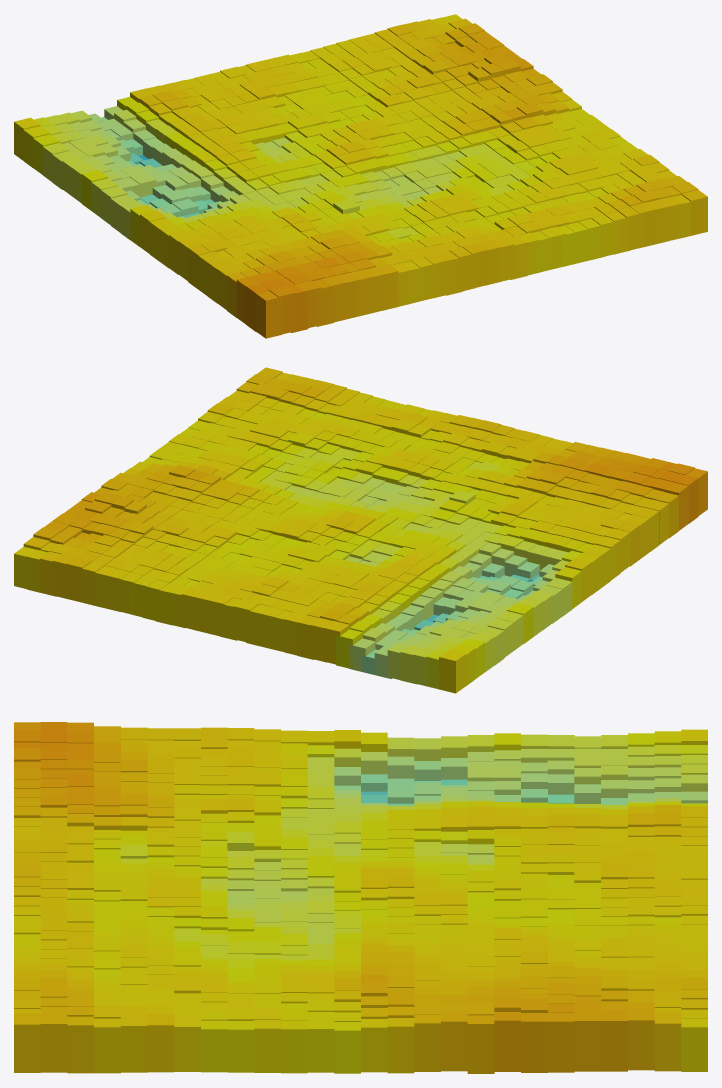
The model's file is population.glb.
The picture shows the model from 3 angles, top to bottom: view 1: azimuth 30°, elevation 25°; view 2: azimuth 150°, elevation 25°; view 3: azimuth 270°, elevation 25°; orthographic projection. The views are drawn at different scales.
Parts seen in each view (by area): view 1: population; view 2: population; view 3: population.
Part boxes in pixels (left/top/right/bottom): population: left=14, top=14, right=707, bottom=338; population: left=14, top=367, right=707, bottom=693; population: left=14, top=722, right=707, bottom=1073.
Size of the model in its own units: 2627 by 253 by 2594.
